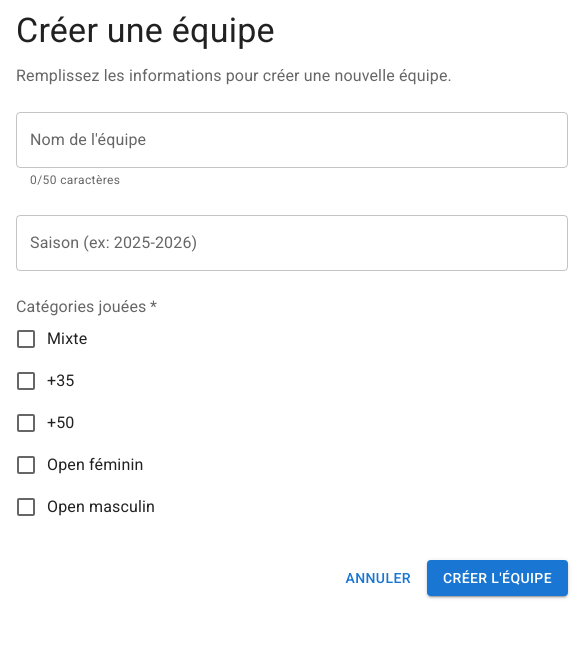
Test: TeamCreationForm › devrait afficher les erreurs de validation à la soumission vide
Click the button "Créer l'équipe": [497, 578] box top-left (427, 560), bottom-right (568, 596)
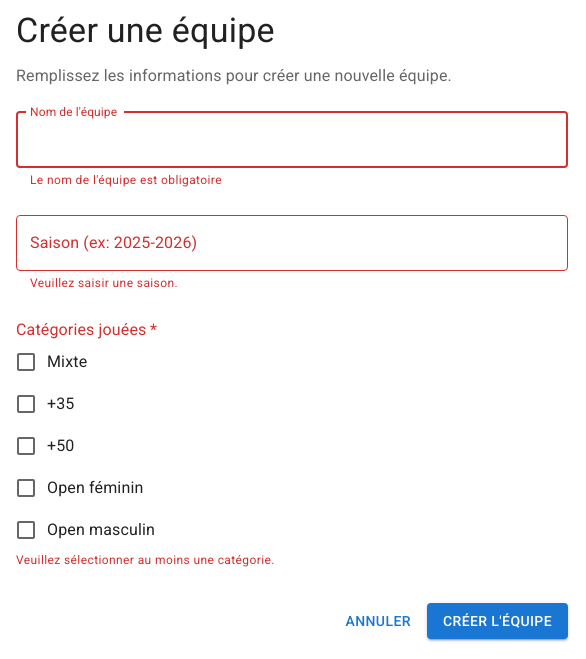
Expected: the text "Le nom de l'équipe est obligatoire" is shown, top-left (30, 173), bottom-right (222, 187)
Expected: the text "Veuillez saisir une saison." is shown, top-left (30, 276), bottom-right (178, 290)
Expected: the text "Veuillez sélectionner au moins une catégorie." is shown, top-left (16, 553), bottom-right (275, 567)
